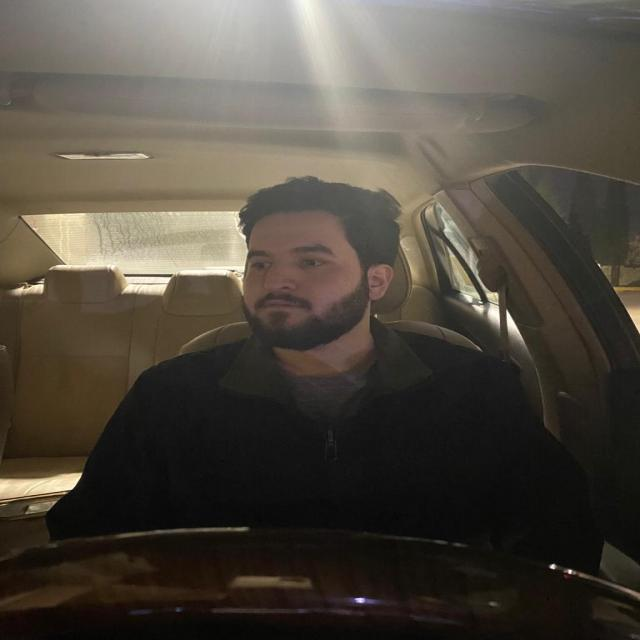person: (230, 177, 400, 345)
